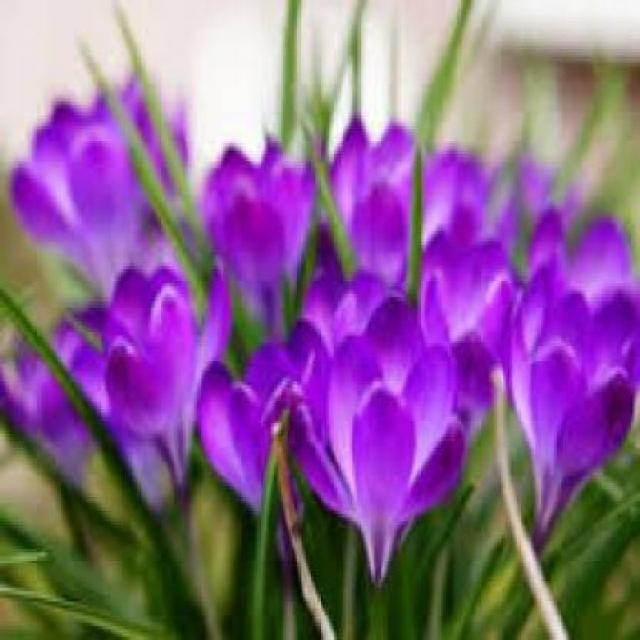saffron open: (292, 299, 466, 582), (510, 258, 636, 547)
